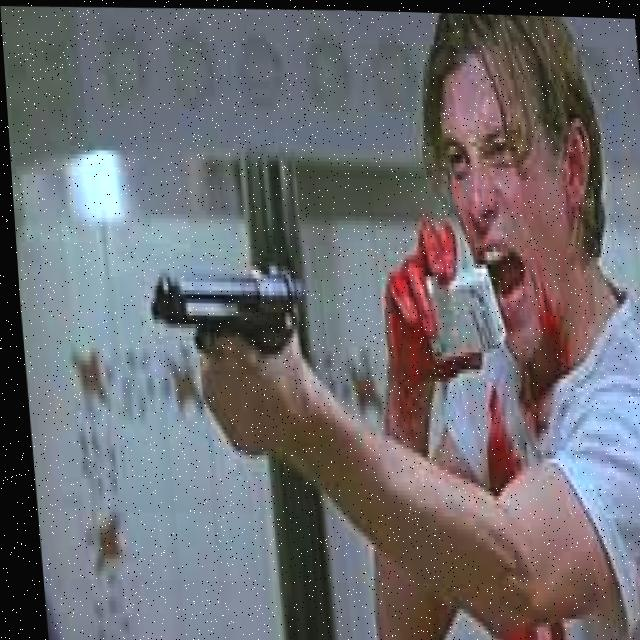pistol: (142, 261, 300, 358)
